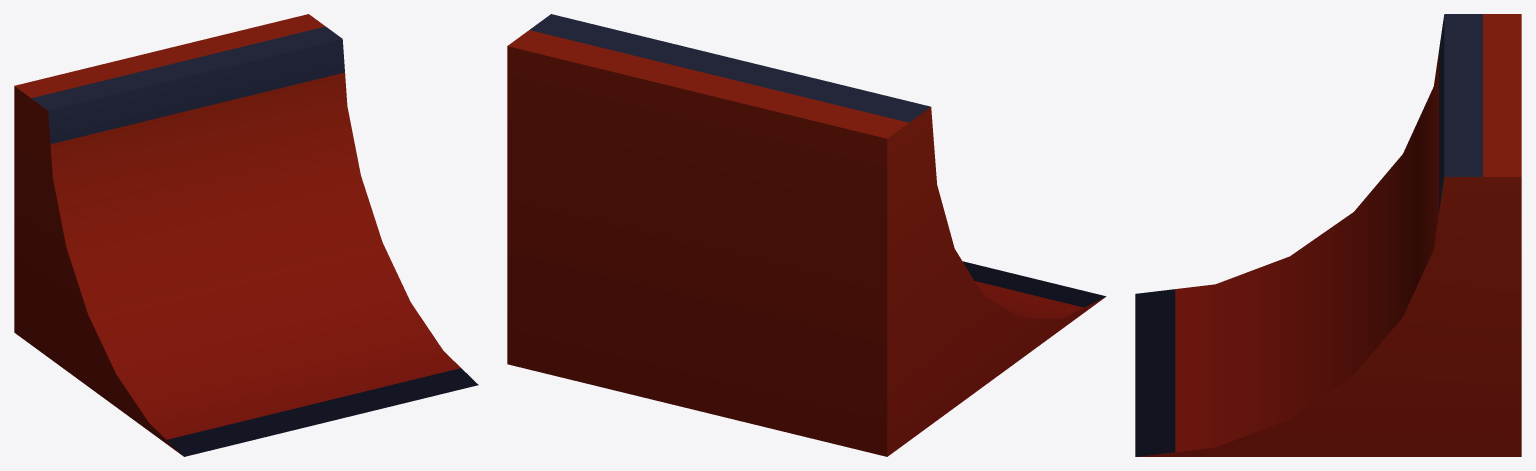
Rendered from half-pipe.fbx.
The picture shows the model from 3 angles, left to right: view 1: azimuth 30°, elevation 25°; view 2: azimuth 150°, elevation 25°; view 3: azimuth 270°, elevation 25°; orthographic projection. The views are drawn at different scales.
Parts seen in each view (by area): view 1: half-pipe; view 2: half-pipe; view 3: half-pipe.
Boxes of the visible parts, x1,y1,x2,y2 form: half-pipe: (14,14,478,456); half-pipe: (507,14,1106,456); half-pipe: (1135,14,1521,456).
Bounding box in the file's own units: 10 × 8 × 10.
